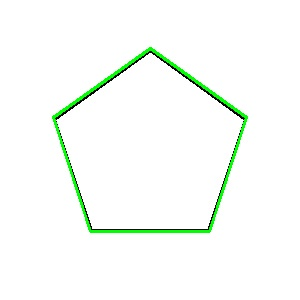line_segment: (53, 48, 247, 233)
